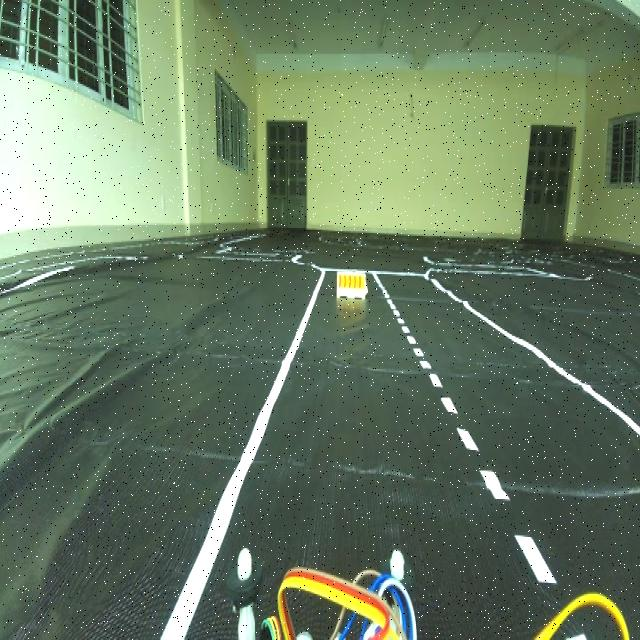roadblock: (332, 262, 369, 302)
